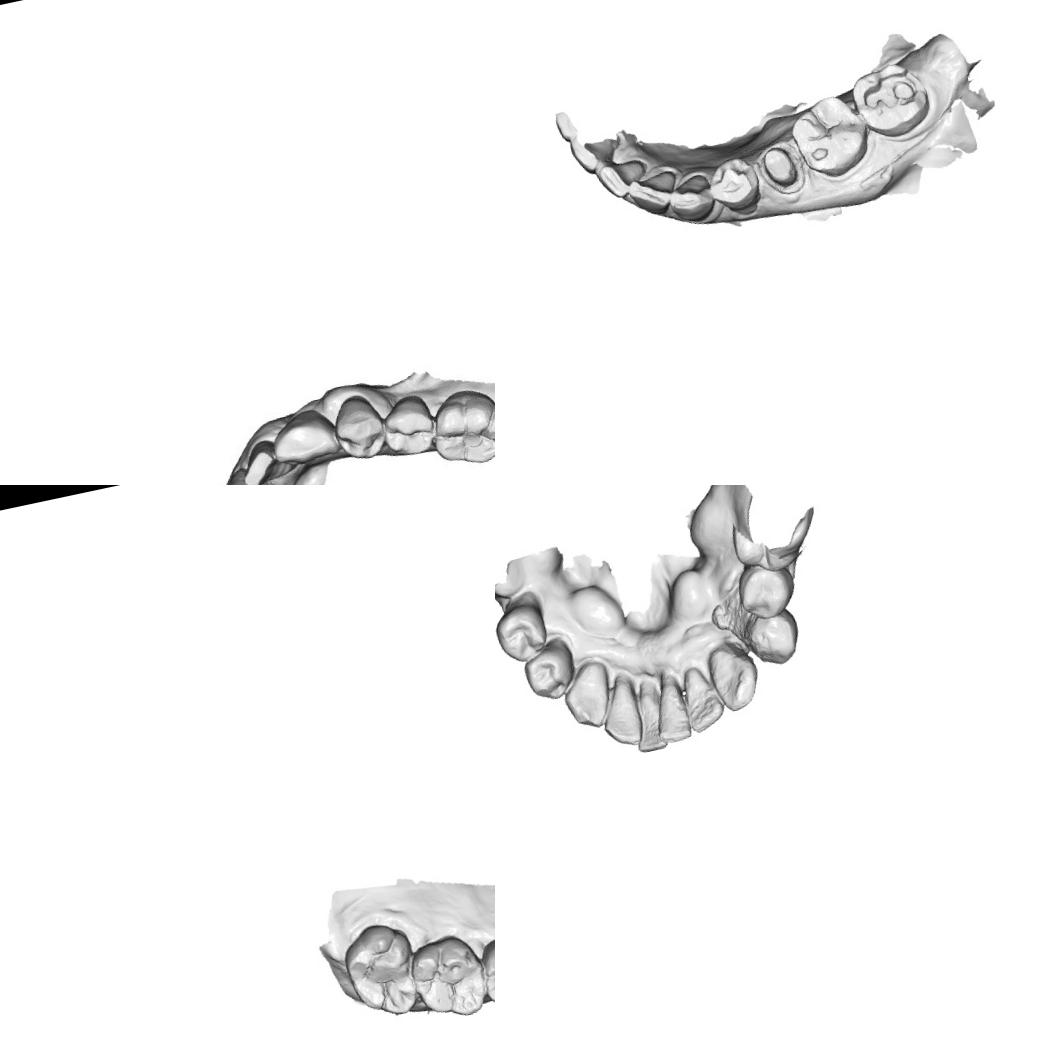canine: (265, 401, 343, 471), (557, 658, 620, 735), (704, 640, 766, 717), (662, 168, 720, 228)
crown: (756, 135, 807, 199)
incisor: (676, 660, 729, 738), (593, 678, 649, 751), (621, 164, 685, 224), (591, 152, 657, 207), (648, 682, 696, 748), (566, 128, 626, 178), (626, 690, 671, 756), (236, 438, 282, 485)
inlay: (854, 62, 928, 120)
molar: (337, 917, 425, 1024), (784, 88, 876, 186), (404, 931, 492, 1026), (422, 379, 495, 473)
premolar: (329, 388, 392, 466), (730, 558, 800, 626), (740, 606, 812, 672), (376, 390, 443, 460), (516, 636, 581, 706), (701, 152, 767, 220), (495, 598, 553, 667), (474, 932, 495, 1010)
